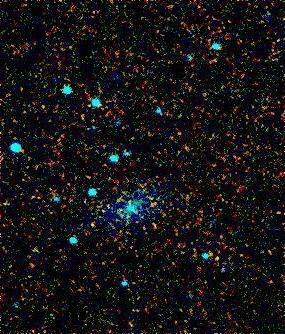star: (80, 209, 110, 239)
